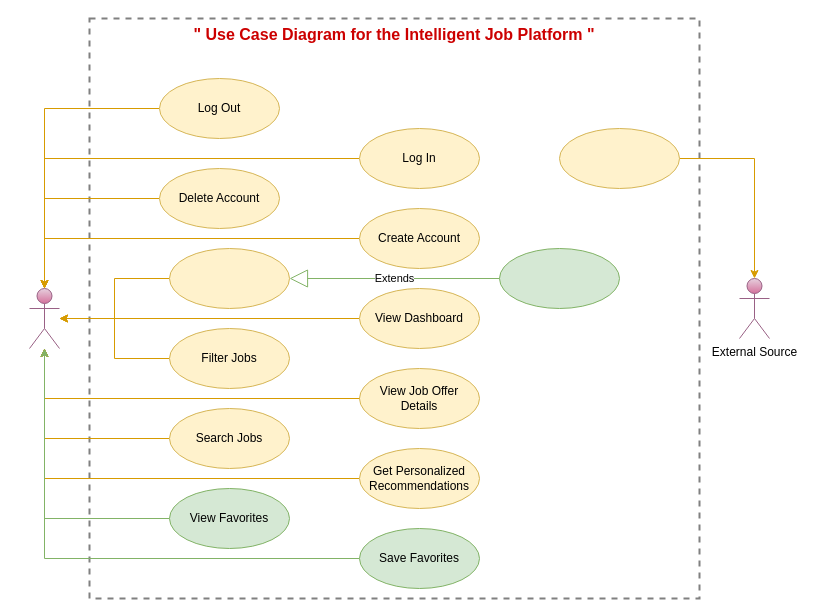
This 814x616 diagram has some shape labels left out. The shapes that lost their labels are listed below. From the top down, each one's centre as x and y in pixels, then its label:
(x=619, y=158): Fetch/Import Job Offers
(x=229, y=278): Complete Profile
(x=559, y=278): Upload Resume
(x=44, y=318): Candidate
